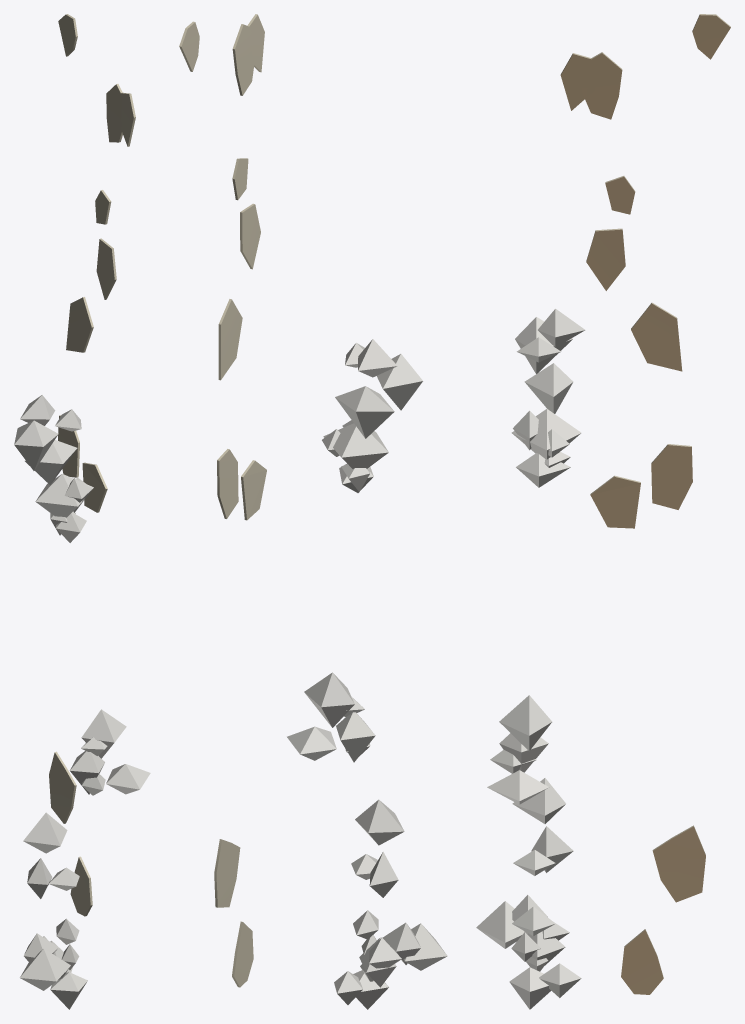
File: Kit_DoorLeafBreak_Steel_DA_Deb2.fbx
The picture shows the model from 3 angles, left to right: view 1: azimuth 30°, elevation 25°; view 2: azimuth 150°, elevation 25°; view 3: azimuth 270°, elevation 25°; orthographic projection. The views are drawn at different scales.
Parts seen in each view (by area): view 1: deb_gyp_05, deb_gyp_02, deb_gyp_04, deb_gyp_03, deb_gyp_01, deb_chip_04, deb_chip_08, deb_gyp_00, deb_chip_00, deb_chip_01, deb_chip_03, deb_chip_06 (+4 smaller); view 2: deb_gyp_05, deb_gyp_02, deb_gyp_03, deb_gyp_01, deb_gyp_04, deb_gyp_00, deb_chip_04, deb_chip_08, deb_chip_07, deb_chip_06, deb_chip_03, deb_chip_00 (+3 smaller); view 3: deb_gyp_02, deb_gyp_05, deb_gyp_03, deb_gyp_00, deb_chip_04, deb_gyp_04, deb_gyp_01, deb_chip_08, deb_chip_07, deb_chip_03, deb_chip_01, deb_chip_06 (+4 smaller).
Boxes of the visible parts, left/top/right/bottom form: deb_gyp_05: left=14, top=395, right=81, bottom=484; deb_gyp_02: left=70, top=709, right=150, bottom=795; deb_gyp_04: left=20, top=918, right=79, bottom=990; deb_gyp_03: left=35, top=474, right=93, bottom=542; deb_gyp_01: left=23, top=812, right=79, bottom=898; deb_chip_04: left=49, top=751, right=76, bottom=823; deb_chip_08: left=66, top=297, right=93, bottom=352; deb_gyp_00: left=43, top=936, right=87, bottom=1009; deb_chip_00: left=96, top=238, right=116, bottom=299; deb_chip_01: left=70, top=856, right=92, bottom=916; deb_chip_03: left=82, top=462, right=107, bottom=512; deb_chip_06: left=106, top=84, right=122, bottom=142; deb_gyp_05: left=335, top=339, right=422, bottom=438; deb_gyp_02: left=287, top=672, right=375, bottom=762; deb_gyp_03: left=322, top=420, right=388, bottom=492; deb_gyp_01: left=351, top=799, right=404, bottom=897; deb_gyp_04: left=353, top=910, right=447, bottom=970; deb_gyp_00: left=334, top=937, right=401, bottom=1009; deb_chip_04: left=214, top=839, right=240, bottom=907; deb_chip_08: left=218, top=299, right=242, bottom=380; deb_chip_07: left=217, top=449, right=238, bottom=518; deb_chip_06: left=232, top=24, right=254, bottom=95; deb_chip_03: left=241, top=460, right=266, bottom=520; deb_chip_00: left=240, top=203, right=260, bottom=269; deb_gyp_02: left=487, top=695, right=552, bottom=804; deb_gyp_05: left=515, top=308, right=585, bottom=413; deb_gyp_03: left=511, top=409, right=581, bottom=487; deb_gyp_00: left=509, top=922, right=581, bottom=1009; deb_chip_04: left=652, top=825, right=705, bottom=902; deb_gyp_04: left=476, top=895, right=555, bottom=961; deb_gyp_01: left=512, top=778, right=573, bottom=875; deb_chip_08: left=631, top=302, right=682, bottom=371; deb_chip_07: left=651, top=444, right=692, bottom=509; deb_chip_03: left=590, top=475, right=640, bottom=528; deb_chip_01: left=621, top=929, right=663, bottom=994; deb_chip_06: left=580, top=52, right=622, bottom=119.
Size of the model in its own units: 0.0342 by 0.2118 by 0.0471.
